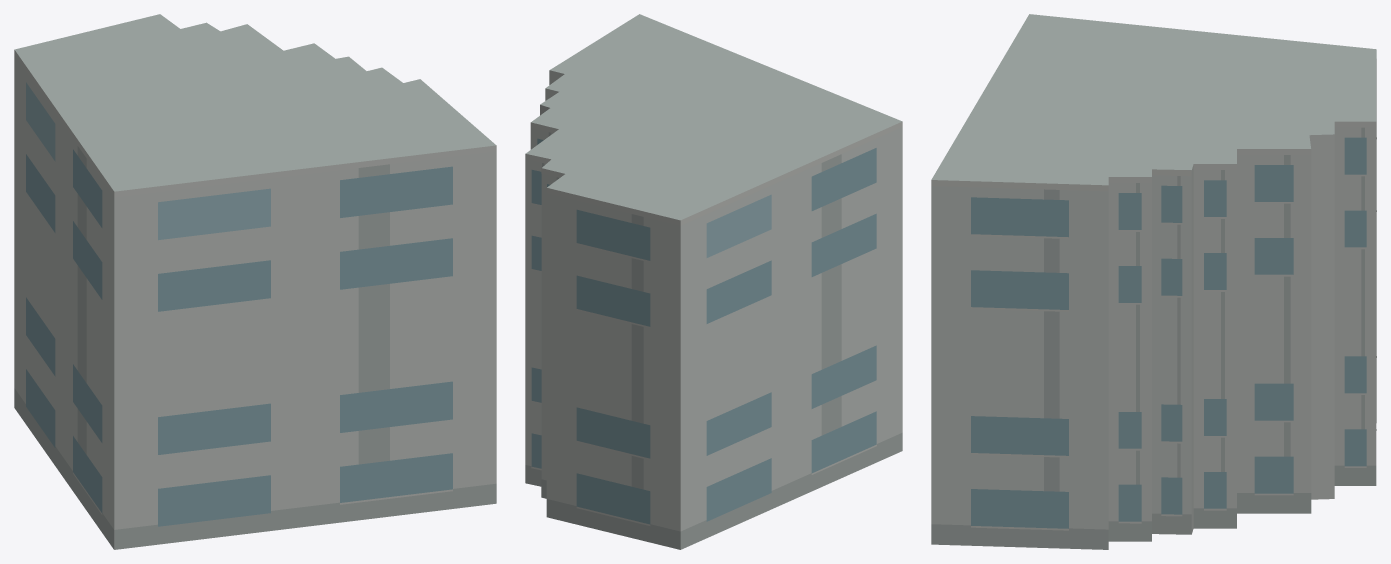
File: survey-upis-33019324.glb
3 renders of one model, left to right at view 1: azimuth 30°, elevation 25°; view 2: azimuth 150°, elevation 25°; view 3: azimuth 270°, elevation 25°, orthographic. The views are drawn at different scales.
Visible parts, largest first — view 1: survey-upis-33019324.tmp; view 2: survey-upis-33019324.tmp; view 3: survey-upis-33019324.tmp.
Boxes of the visible parts, <box> form: survey-upis-33019324.tmp: <box>14,14,496,549</box>; survey-upis-33019324.tmp: <box>525,14,902,549</box>; survey-upis-33019324.tmp: <box>931,14,1376,549</box>.
Size of the model in its own units: 14.72 by 14.6 by 16.18.
